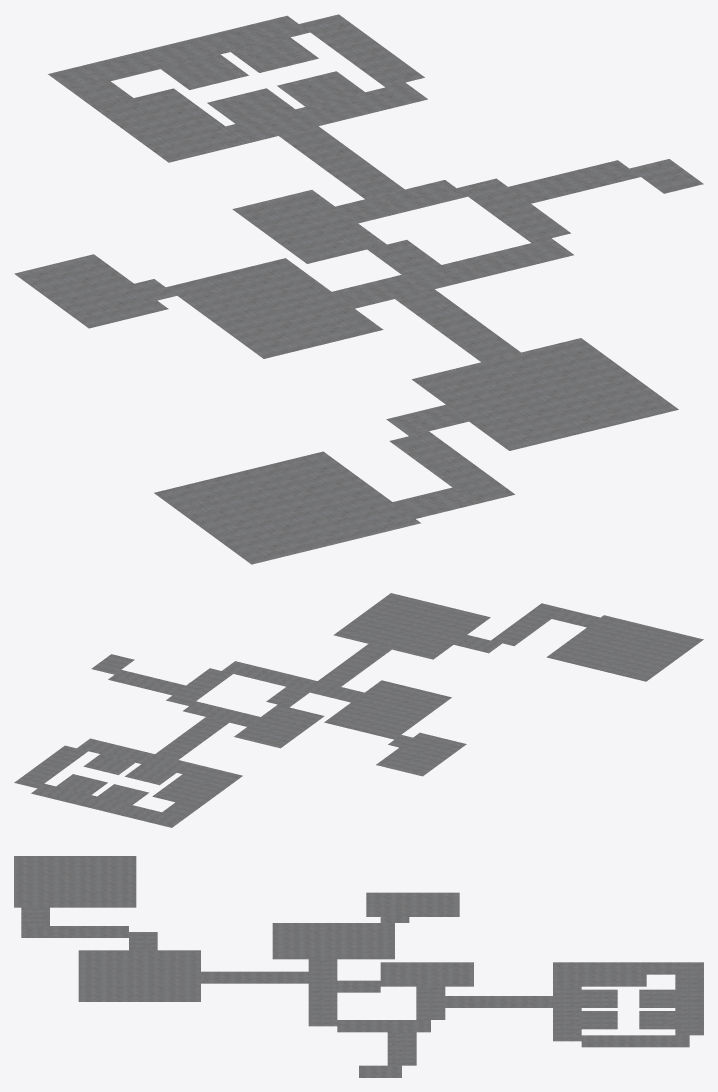
The model's file is Level3Roof.fbx.
3 views of the same model, one above another, from view 1: azimuth 30°, elevation 25°; view 2: azimuth 150°, elevation 25°; view 3: azimuth 270°, elevation 25° (orthographic). The views are drawn at different scales.
Parts seen in each view (by area): view 1: Level3Roof; view 2: Level3Roof; view 3: Level3Roof.
Part boxes in pixels (bbox=[...]): Level3Roof: bbox=[14, 14, 703, 564]; Level3Roof: bbox=[14, 593, 703, 827]; Level3Roof: bbox=[14, 856, 703, 1077].
Size of the model in its own units: 73 by 0 by 96.
